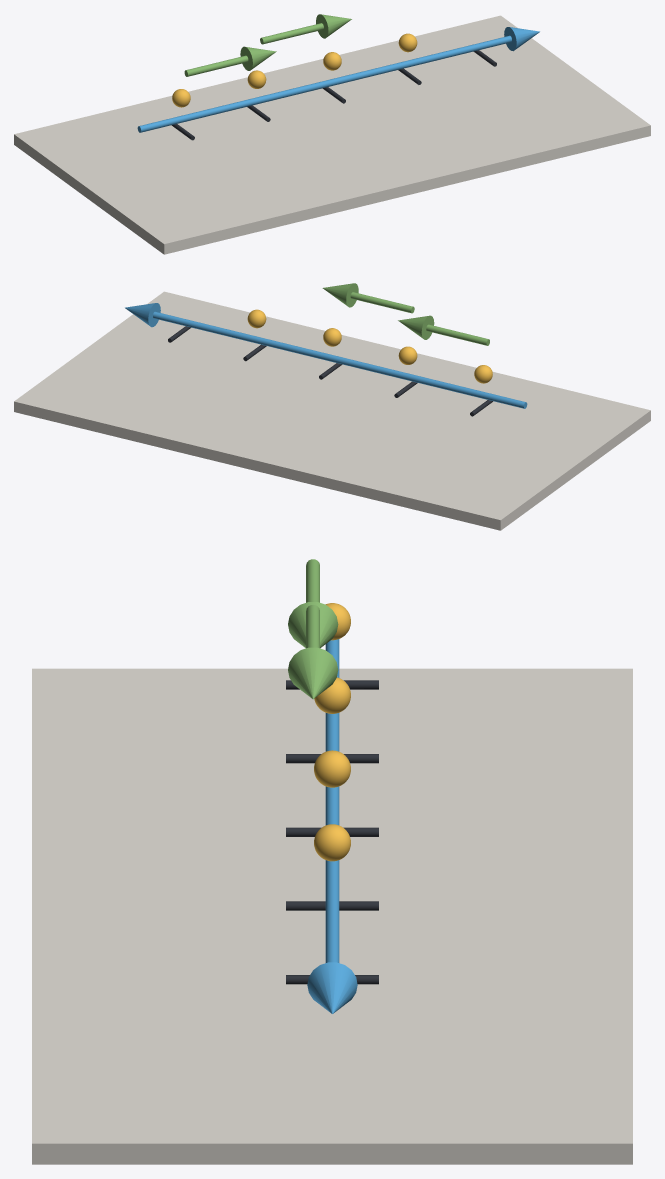
File: math-number-number-line.glb
3 views of the same model, one above another, from view 1: azimuth 30°, elevation 25°; view 2: azimuth 150°, elevation 25°; view 3: azimuth 270°, elevation 25° (orthographic). The views are drawn at different scales.
Parts seen in each view (by area): view 1: number-sense-base, number-line-forward-shaft, counting-hop-one-shaft, counting-hop-one-head, counting-hop-two-shaft, number-line-forward-head, counting-hop-two-head; view 2: number-sense-base, number-line-forward-shaft, counting-hop-one-head, counting-hop-two-head, counting-hop-two-shaft, number-line-forward-head, counting-hop-one-shaft; view 3: number-sense-base, number-line-forward-shaft, counting-hop-two-head, number-line-forward-head, counting-hop-one-head, hop-landing-2-to-3, hop-landing-3-to-4, hop-landing-1-to-2.
Boxes of the visible parts, x1=… form: number-sense-base: x1=14, y1=15, x2=650, y2=254; number-line-forward-shaft: x1=137, y1=35, x2=511, y2=132; counting-hop-one-shaft: x1=184, y1=55, x2=248, y2=76; counting-hop-one-head: x1=240, y1=46, x2=276, y2=70; counting-hop-two-shaft: x1=260, y1=23, x2=323, y2=44; number-line-forward-head: x1=504, y1=27, x2=539, y2=51; counting-hop-two-head: x1=316, y1=14, x2=351, y2=38; number-sense-base: x1=14, y1=291, x2=650, y2=530; number-line-forward-shaft: x1=153, y1=311, x2=527, y2=408; counting-hop-one-head: x1=398, y1=315, x2=434, y2=339; counting-hop-two-head: x1=322, y1=283, x2=358, y2=307; counting-hop-two-shaft: x1=350, y1=292, x2=414, y2=313; number-line-forward-head: x1=125, y1=303, x2=160, y2=327; counting-hop-one-shaft: x1=426, y1=324, x2=489, y2=345; number-sense-base: x1=32, y1=668, x2=632, y2=1164; number-line-forward-shaft: x1=325, y1=639, x2=339, y2=962; counting-hop-two-head: x1=288, y1=647, x2=338, y2=699; number-line-forward-head: x1=307, y1=962, x2=357, y2=1013; counting-hop-one-head: x1=288, y1=602, x2=338, y2=648; hop-landing-2-to-3: x1=314, y1=750, x2=350, y2=787; hop-landing-3-to-4: x1=314, y1=824, x2=350, y2=861; hop-landing-1-to-2: x1=314, y1=677, x2=350, y2=713.
Size of what is drawn, in the model's own units: 2.9 by 0.754 by 1.55.
